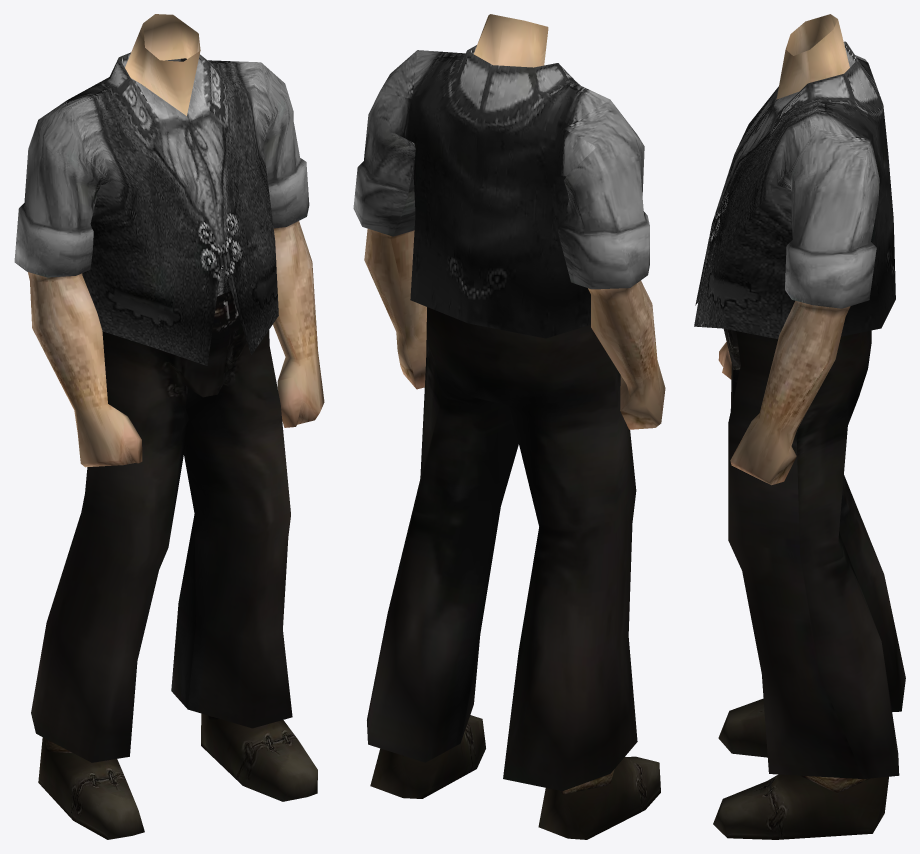
File: ARMOR_BAU_M_03.glb
3 renders of one model, left to right at view 1: azimuth 30°, elevation 25°; view 2: azimuth 150°, elevation 25°; view 3: azimuth 270°, elevation 25°, orthographic. The views are drawn at different scales.
Parts seen in each view (by area): view 1: ARMOR_BAU_M_03; view 2: ARMOR_BAU_M_03; view 3: ARMOR_BAU_M_03.
Part boxes in pixels (x1=…): ARMOR_BAU_M_03: x1=14, y1=14, x2=324, y2=839; ARMOR_BAU_M_03: x1=353, y1=14, x2=665, y2=839; ARMOR_BAU_M_03: x1=694, y1=14, x2=905, y2=839.
Size of the model in its own units: 0.6416 by 1.69 by 0.4237.
2 materials, 2 textured.
